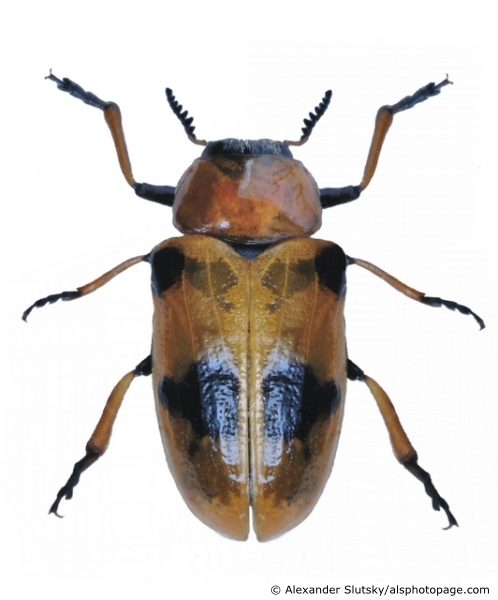Tituboea_macropus: (19, 56, 489, 544)
